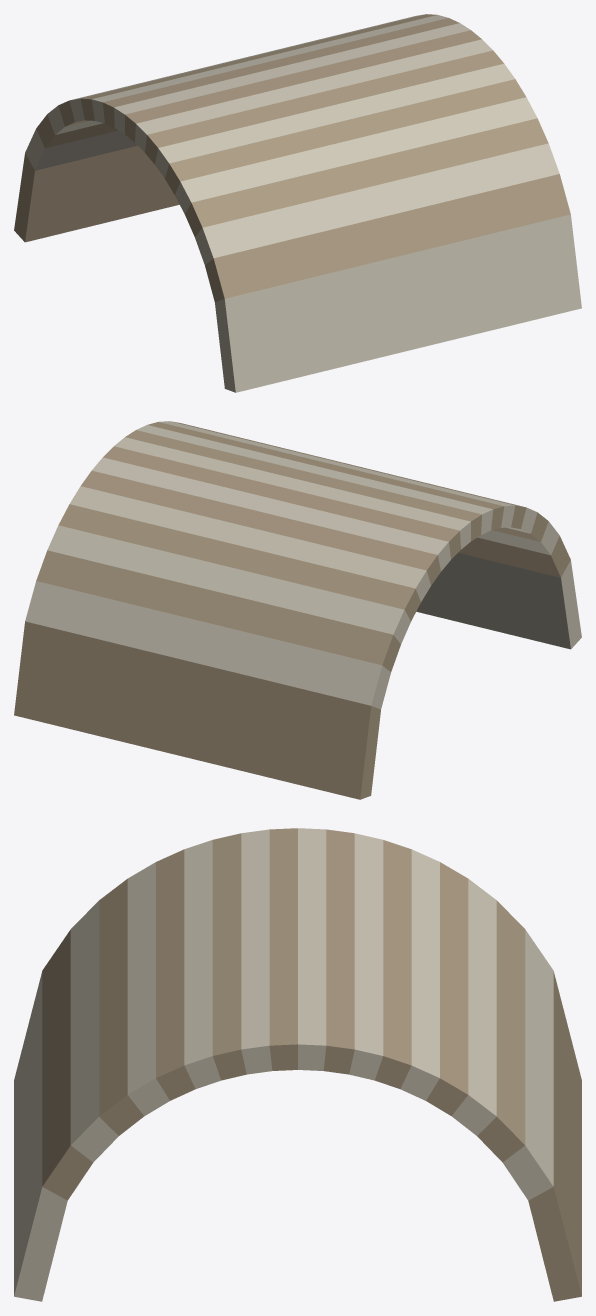
File: BarrelVault__Plain.fbx
The picture shows the model from 3 angles, top to bottom: view 1: azimuth 30°, elevation 25°; view 2: azimuth 150°, elevation 25°; view 3: azimuth 270°, elevation 25°; orthographic projection. The views are drawn at different scales.
Parts seen in each view (by area): view 1: BarrelVault__Plain; view 2: BarrelVault__Plain; view 3: BarrelVault__Plain.
Part boxes in pixels (x1,y1,x2,y2): BarrelVault__Plain: (14,14,581,392); BarrelVault__Plain: (14,421,581,799); BarrelVault__Plain: (14,828,581,1301).
Size of the model in its own units: 400 by 222 by 444.
1 material, 1 textured.
